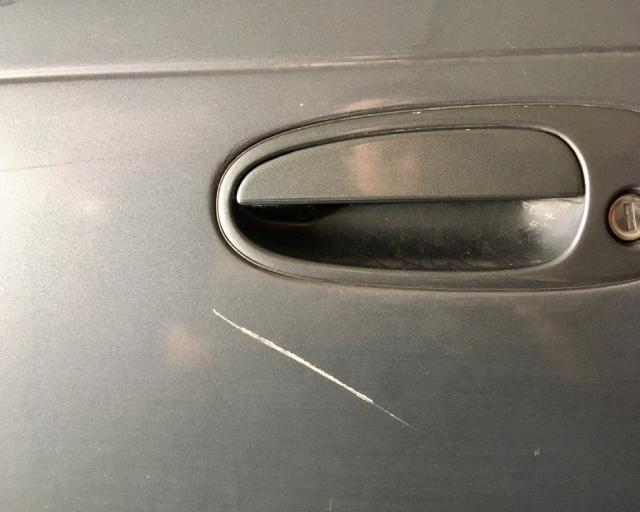scratch: (195, 288, 425, 445)
